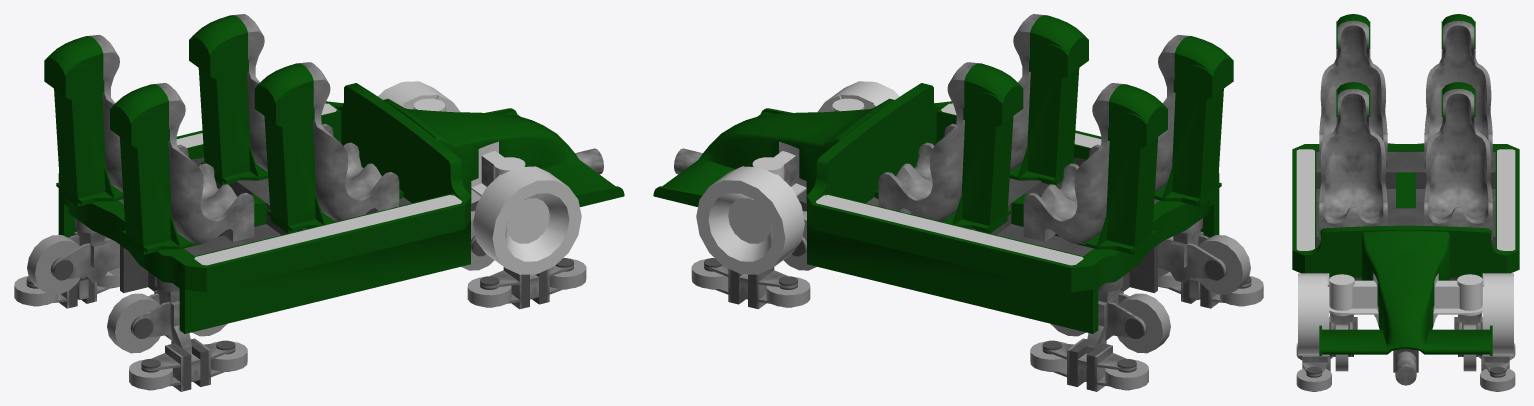
Rendered from front_car_race.obj.
3 renders of one model, left to right at view 1: azimuth 30°, elevation 25°; view 2: azimuth 150°, elevation 25°; view 3: azimuth 270°, elevation 25°, orthographic. The views are drawn at different scales.
Parts seen in each view (by area): view 1: car, RaceFront.002; view 2: car, RaceFront.002; view 3: car, RaceFront.002.
Part boxes in pixels (left/top/right/bottom): car: left=14, top=14, right=470, bottom=391; RaceFront.002: left=378, top=81, right=624, bottom=309; car: left=807, top=14, right=1263, bottom=391; RaceFront.002: left=653, top=81, right=899, bottom=309; car: left=1292, top=14, right=1519, bottom=280; RaceFront.002: left=1296, top=230, right=1515, bottom=391.
Bounding box in the file's own units: 3.42 × 1.74 × 1.6.
